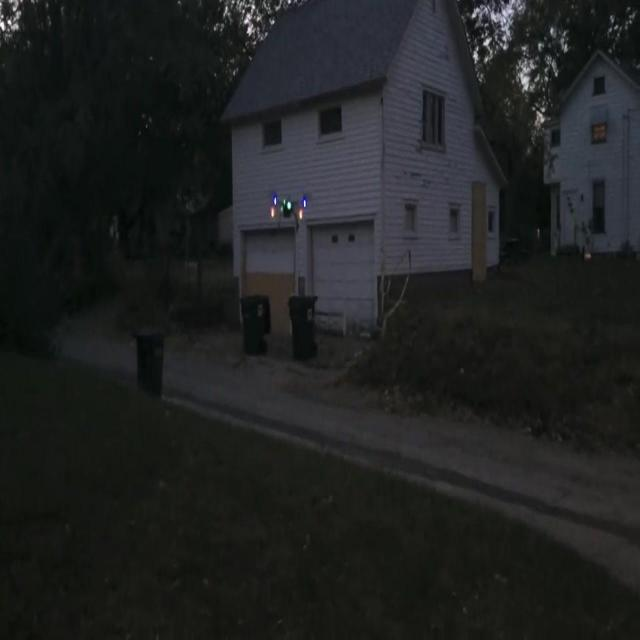UAV: (270, 192, 308, 233)
